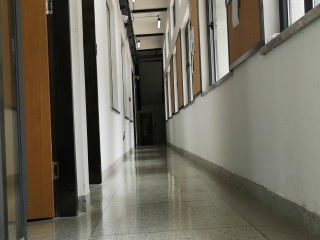room: (1, 3, 80, 232)
